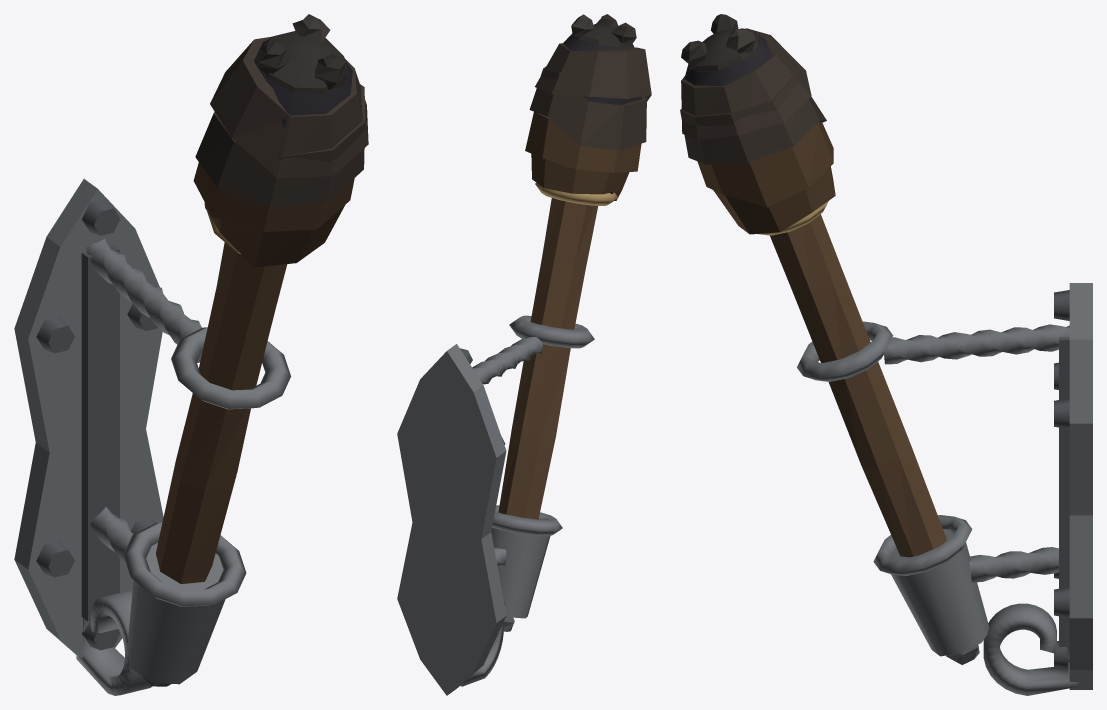
Rendered from SM_LPD_Light_TorchWallUnlit_01.fbx.
3 renders of one model, left to right at view 1: azimuth 30°, elevation 25°; view 2: azimuth 150°, elevation 25°; view 3: azimuth 270°, elevation 25°, orthographic. The views are drawn at different scales.
Parts seen in each view (by area): view 1: SM_LPD_Light_TorchWallUnlit_01; view 2: SM_LPD_Light_TorchWallUnlit_01; view 3: SM_LPD_Light_TorchWallUnlit_01.
Boxes of the visible parts, x1,y1,x2,y2 form: SM_LPD_Light_TorchWallUnlit_01: [14, 14, 368, 695]; SM_LPD_Light_TorchWallUnlit_01: [397, 14, 651, 695]; SM_LPD_Light_TorchWallUnlit_01: [680, 14, 1092, 695].
Bounding box in the file's own units: 0.1086 × 0.5672 × 0.3173.
